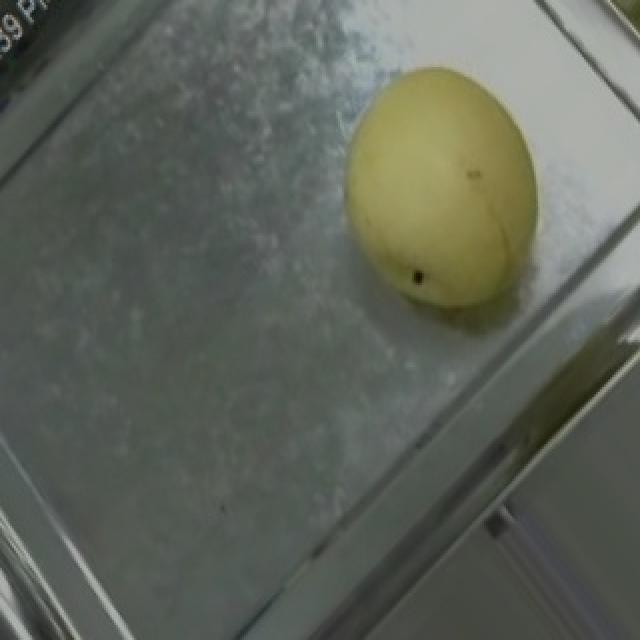Fruit: (298, 27, 594, 350)
